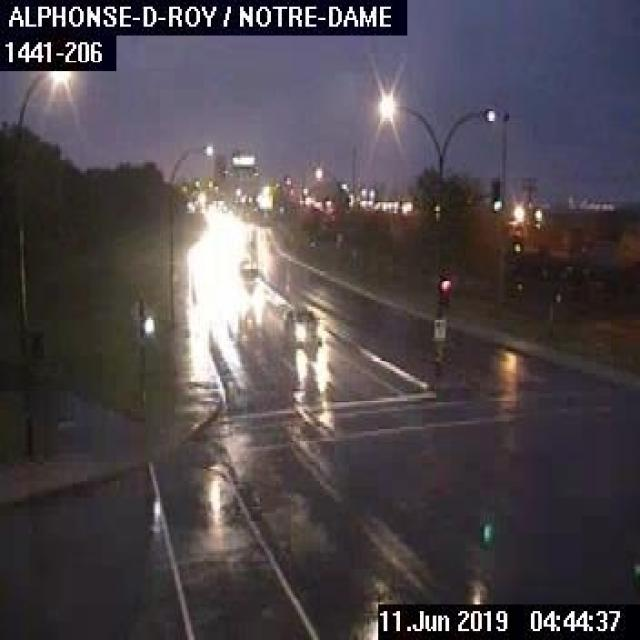vehicle: (284, 304, 324, 344)
